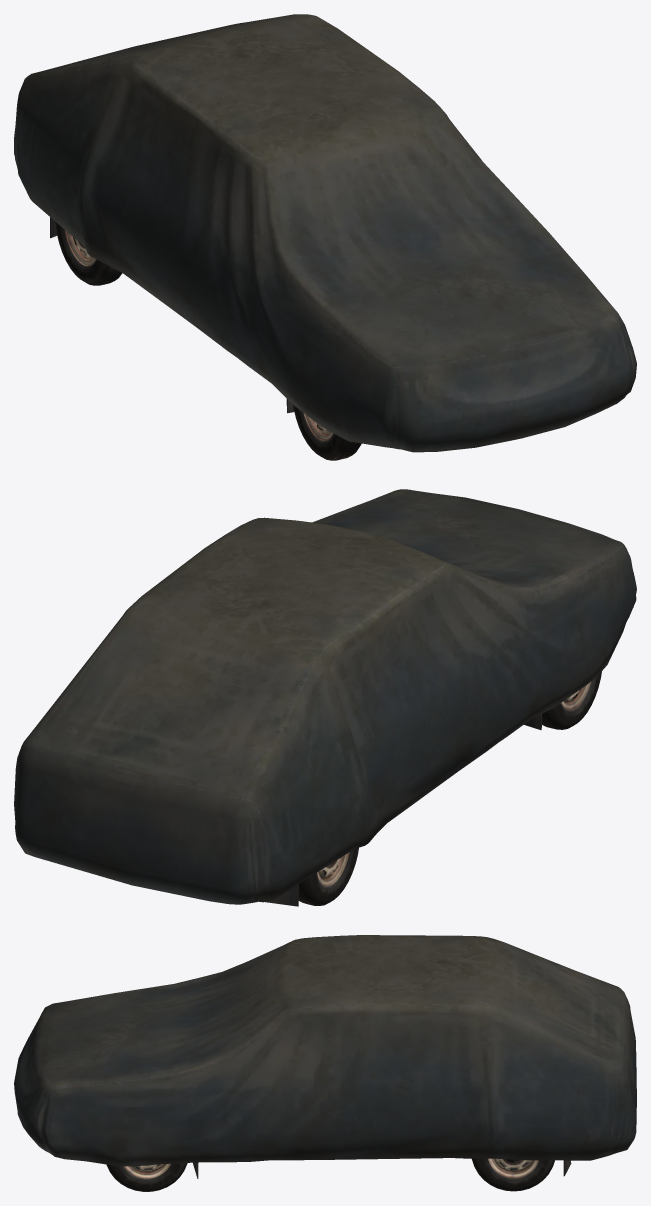
The model's file is covered_car.glb.
3 renders of one model, top to bottom at view 1: azimuth 30°, elevation 25°; view 2: azimuth 150°, elevation 25°; view 3: azimuth 270°, elevation 25°, orthographic. The views are drawn at different scales.
Parts seen in each view (by area): view 1: covered_car_wheel_01; view 2: covered_car_wheel_01; view 3: covered_car_wheel_01.
Part boxes in pixels (<box>): covered_car_wheel_01: <box>14,14,636,460</box>; covered_car_wheel_01: <box>14,489,636,906</box>; covered_car_wheel_01: <box>14,935,636,1191</box>.
Size of the model in its own units: 1.79 by 1.41 by 4.38.
Materials: 1 (1 with a texture image).
